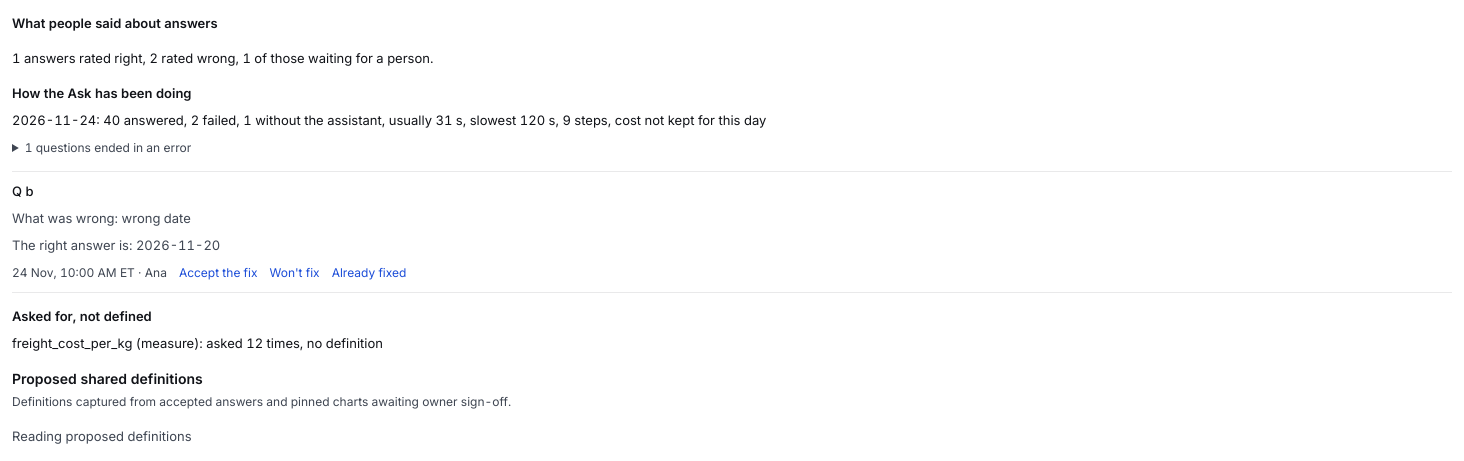
Scenario: Are the answers right? › counts the thumbs, lists the wrong answers still waiting for a person with what was wrong, and says what was asked for with no definition
Check: the text with test id "answers-thumbs" reads "1 answers rated right, 2 rated wrong, 1 of those waiting for a person.", box left=12, top=50, right=433, bottom=66
Check: the list with test id "answers-waiting" shows "Q b", box left=12, top=183, right=34, bottom=199
What coordinates should you click on to do the following:
click the button "Accept the fix"
I would click on:
 (218, 272)
Its box is left=179, top=261, right=258, bottom=284.
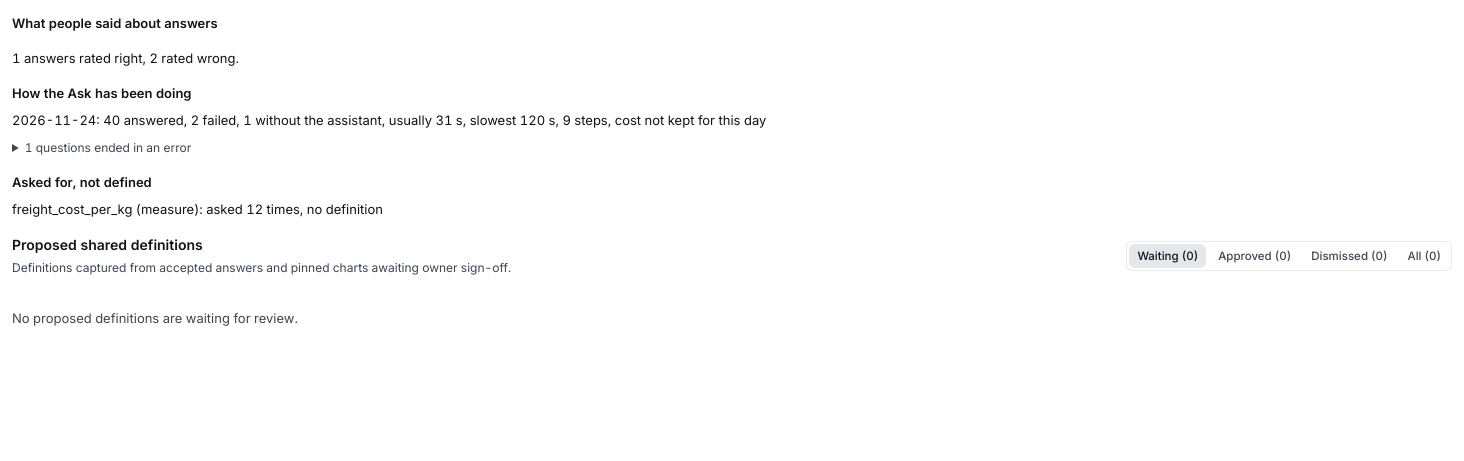
Check: the list with test id "answers-waiting" is gone
